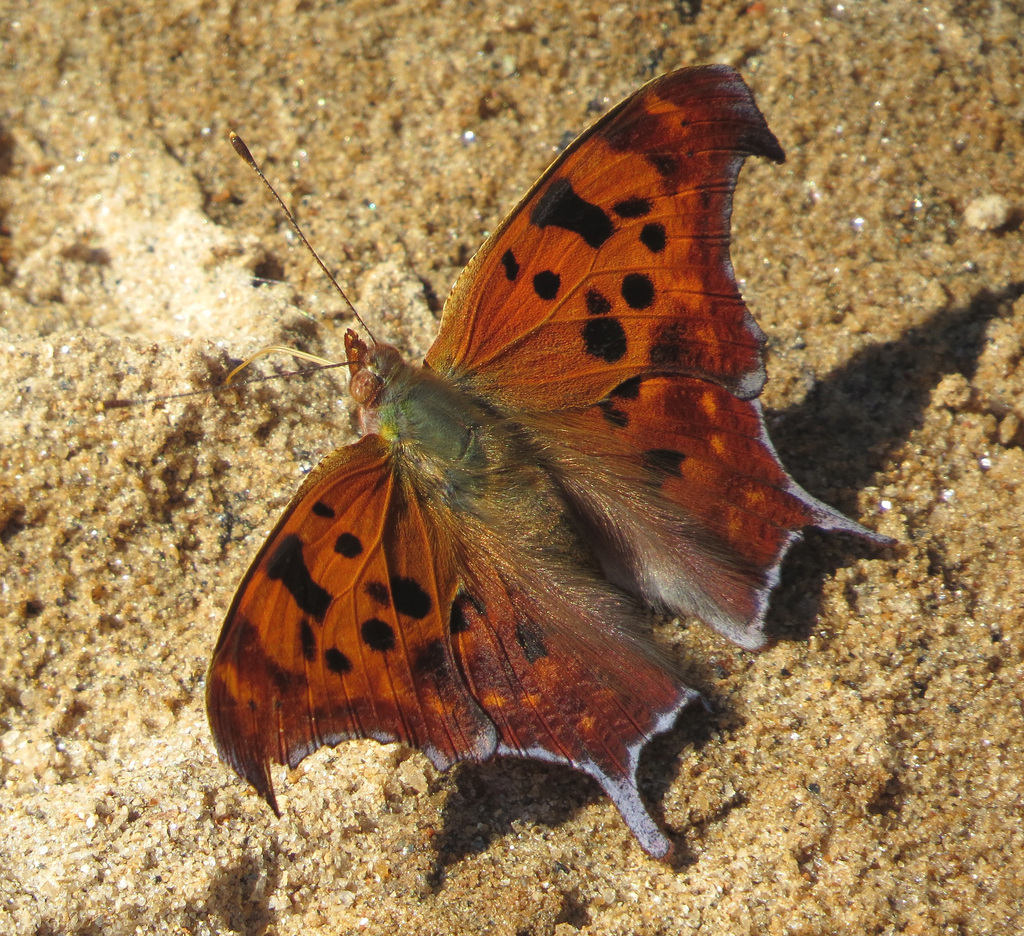Butterfly: (154, 42, 921, 874)
